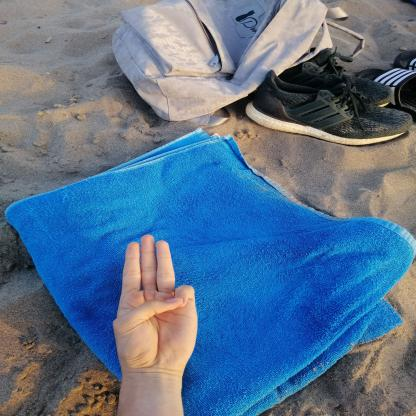THA: (100, 224, 210, 382)
